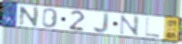0: (41, 7, 59, 29)
2: (69, 10, 87, 32)
J: (92, 12, 111, 35)
L: (144, 17, 161, 38)
N: (18, 5, 41, 28), (118, 14, 140, 37)
